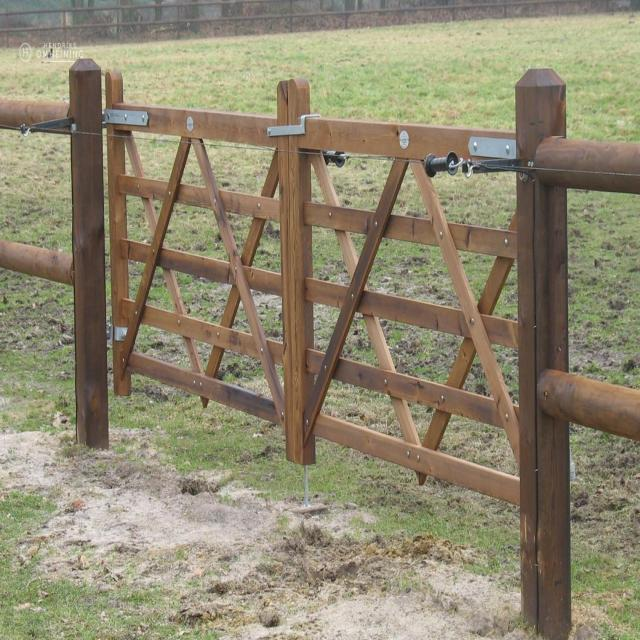fence line: (92, 76, 538, 548)
